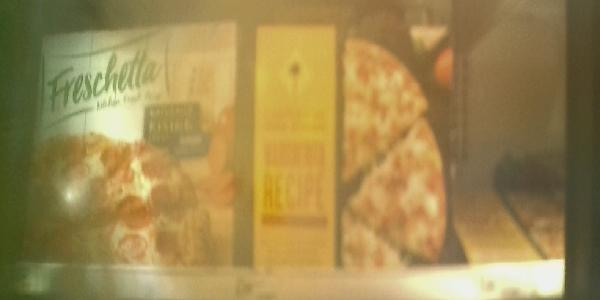pizza1: (36, 20, 234, 268), (252, 24, 457, 262)
